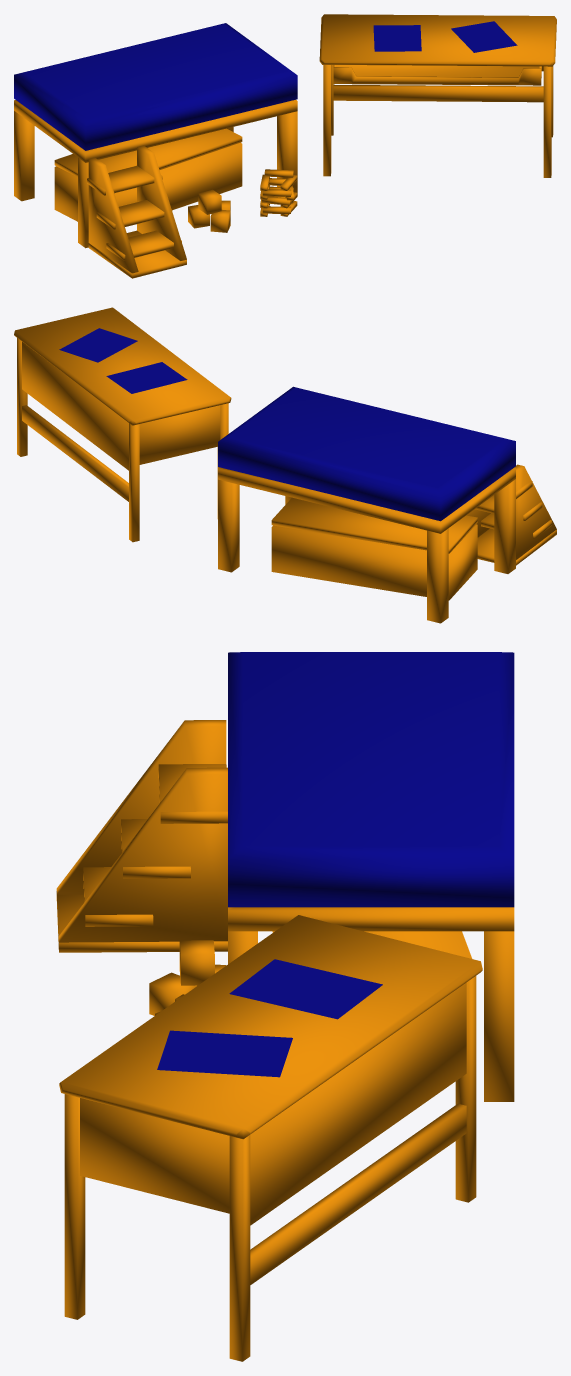
The model's file is KidBedroom.fbx.
3 renders of one model, top to bottom at view 1: azimuth 30°, elevation 25°; view 2: azimuth 150°, elevation 25°; view 3: azimuth 270°, elevation 25°, orthographic. The views are drawn at different scales.
Parts seen in each view (by area): view 1: Empty_Mesh; view 2: Empty_Mesh; view 3: Empty_Mesh.
Part boxes in pixels (x1=…): Empty_Mesh: x1=14, y1=14, x2=556, y2=278; Empty_Mesh: x1=14, y1=307, x2=556, y2=623; Empty_Mesh: x1=56, y1=652, x2=514, y2=1361.
Size of the model in its own units: 88.49 by 22.88 by 37.02.
